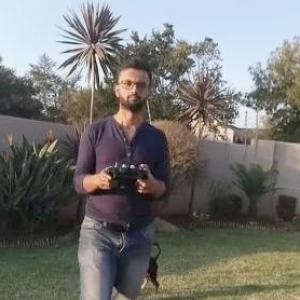follow: (69, 57, 169, 299)
